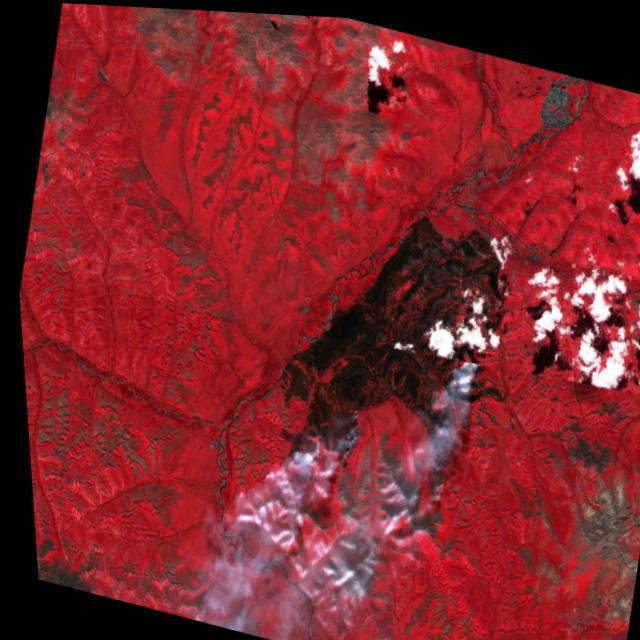fire: (261, 378, 453, 512)
